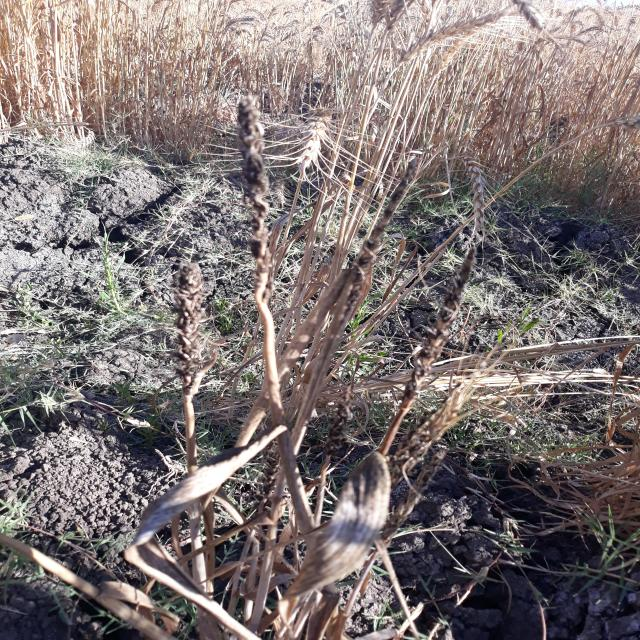loose_charred: (364, 239, 484, 442), (226, 87, 306, 360), (330, 152, 418, 364), (365, 445, 458, 539), (318, 385, 385, 463), (246, 425, 293, 514)
